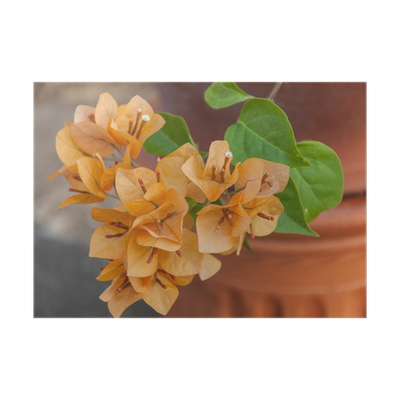rose: (58, 92, 297, 315)
